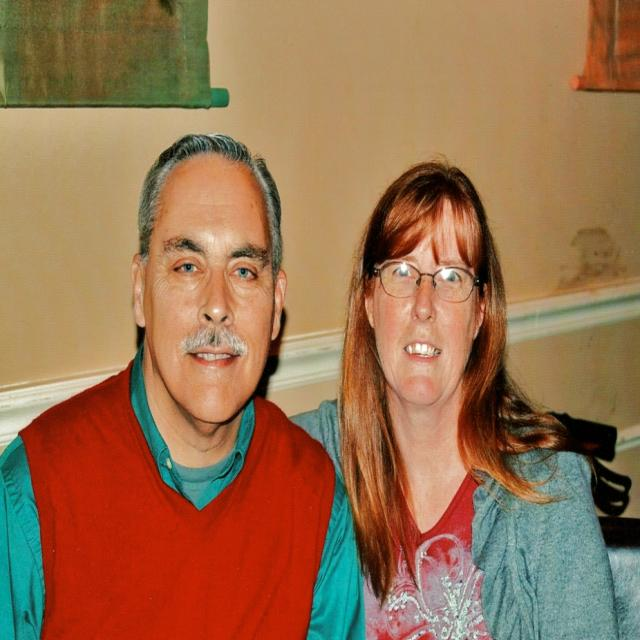Glasses: (373, 256, 483, 307)
